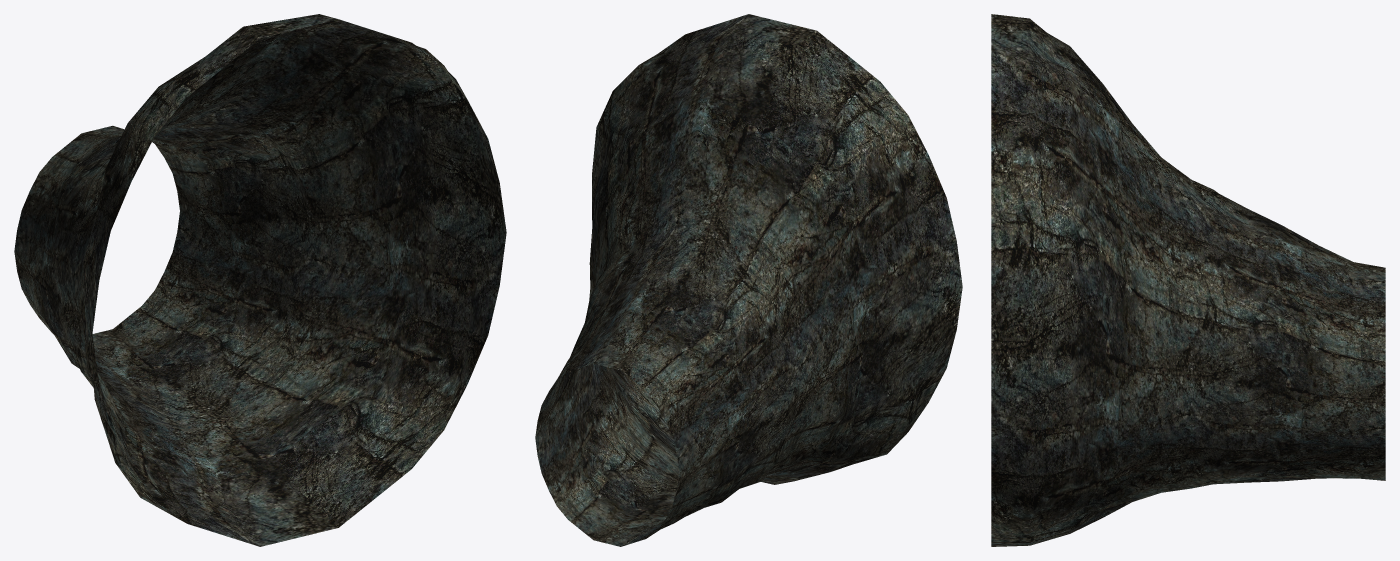
The model's file is tunnel_theta_straight_tr_large.dae.
3 views of the same model, side by side, from view 1: azimuth 30°, elevation 25°; view 2: azimuth 150°, elevation 25°; view 3: azimuth 270°, elevation 25° (orthographic). The views are drawn at different scales.
Visible parts, largest first — view 1: straight_tr_large; view 2: straight_tr_large; view 3: straight_tr_large.
Part boxes in pixels (left/top/right/bottom): straight_tr_large: left=14, top=14, right=506, bottom=546; straight_tr_large: left=535, top=14, right=962, bottom=546; straight_tr_large: left=991, top=14, right=1385, bottom=546.
Size of the model in its own units: 10.87 by 12.75 by 9.2.
